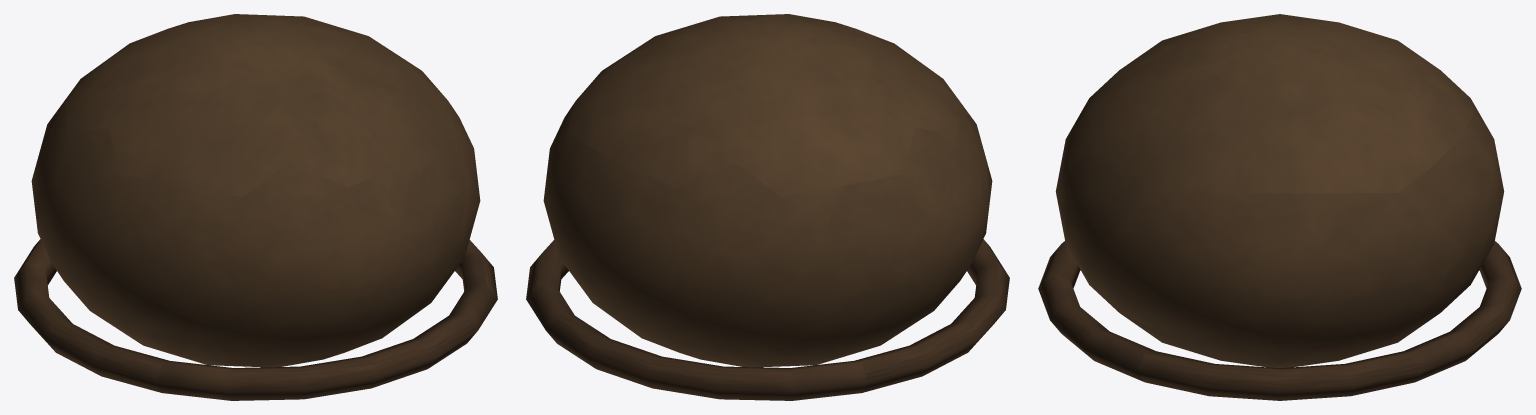
File: item-LeatherCap.fbx
3 views of the same model, side by side, from view 1: azimuth 30°, elevation 25°; view 2: azimuth 150°, elevation 25°; view 3: azimuth 270°, elevation 25° (orthographic).
Visible parts, largest first — view 1: item-LeatherCap__Geometry; view 2: item-LeatherCap__Geometry; view 3: item-LeatherCap__Geometry.
Part boxes in pixels (box(x1,y1,x2,y2)): item-LeatherCap__Geometry: box(14, 14, 497, 400); item-LeatherCap__Geometry: box(526, 14, 1009, 400); item-LeatherCap__Geometry: box(1038, 14, 1521, 400).
Size of the model in its own units: 0.496 by 0.34 by 0.496.
1 material, 1 textured.
